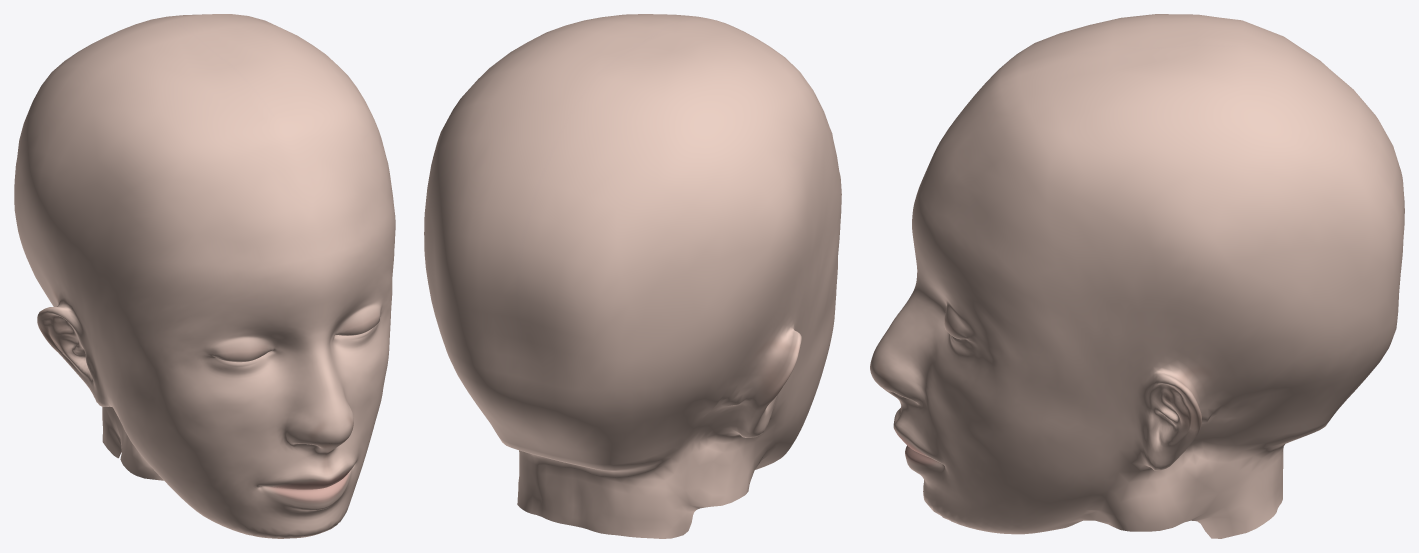
The model's file is head_sculpt.glb.
3 views of the same model, side by side, from view 1: azimuth 30°, elevation 25°; view 2: azimuth 150°, elevation 25°; view 3: azimuth 270°, elevation 25° (orthographic). The views are drawn at different scales.
Parts seen in each view (by area): view 1: head-sculpt-veil; view 2: head-sculpt-veil; view 3: head-sculpt-veil.
Part boxes in pixels (<box>): head-sculpt-veil: <box>14,14,395,538</box>; head-sculpt-veil: <box>424,14,841,538</box>; head-sculpt-veil: <box>870,14,1404,538</box>.
Bounding box in the file's own units: 0.6655 × 0.8669 × 0.8809.
Materials: 2 (2 with a texture image).
